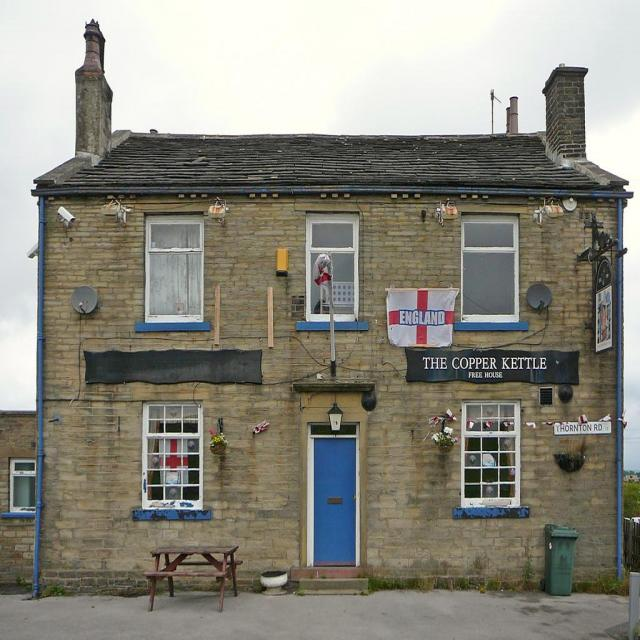table: (143, 542, 244, 610)
